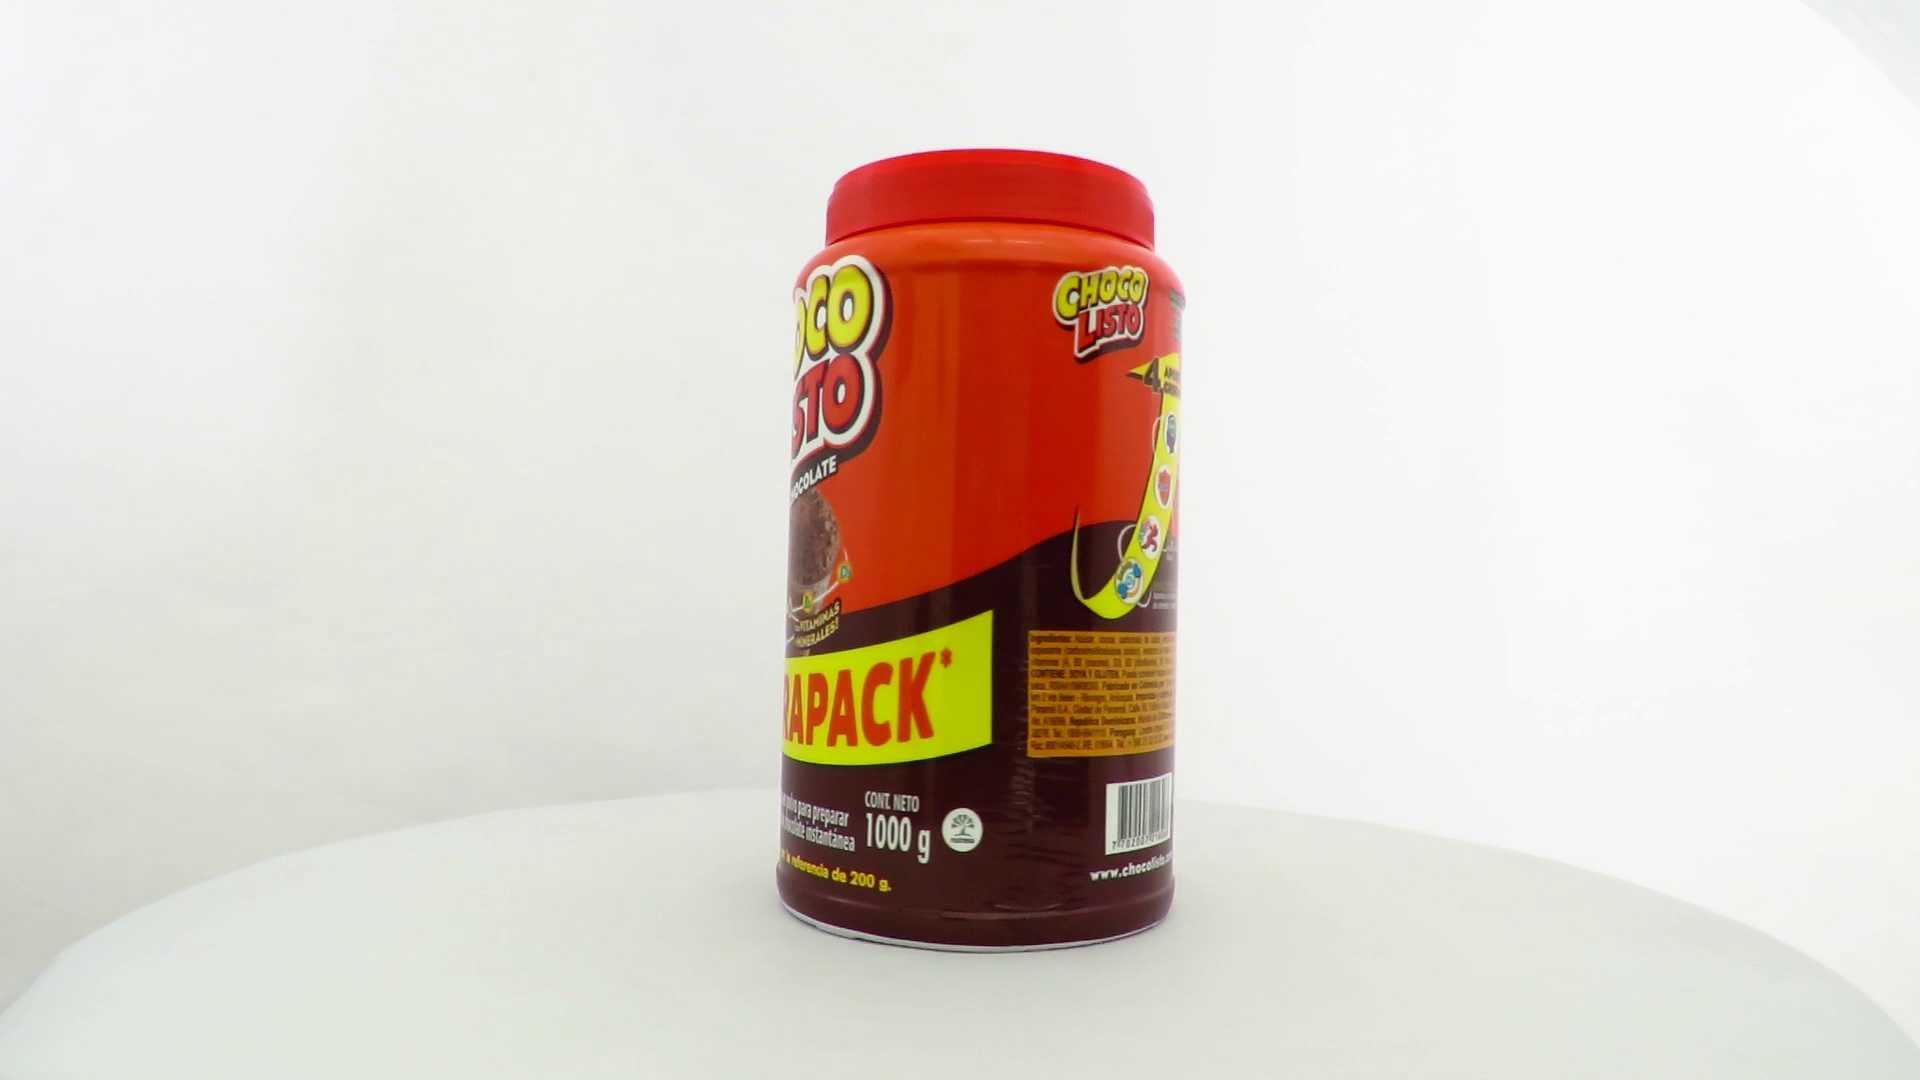COL0170103TRR00100: (771, 142, 1192, 960)
